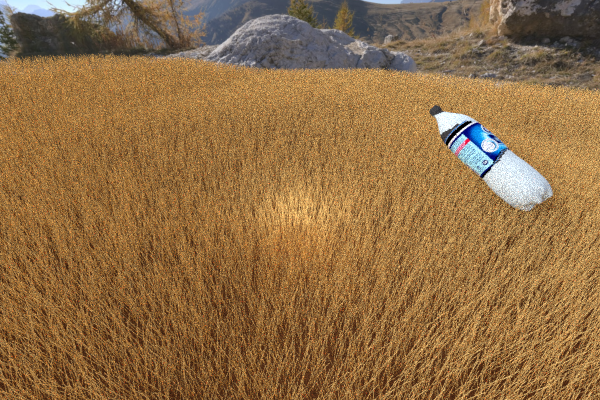Plastic Bottle: (429, 105, 552, 211), (414, 96, 449, 124)
